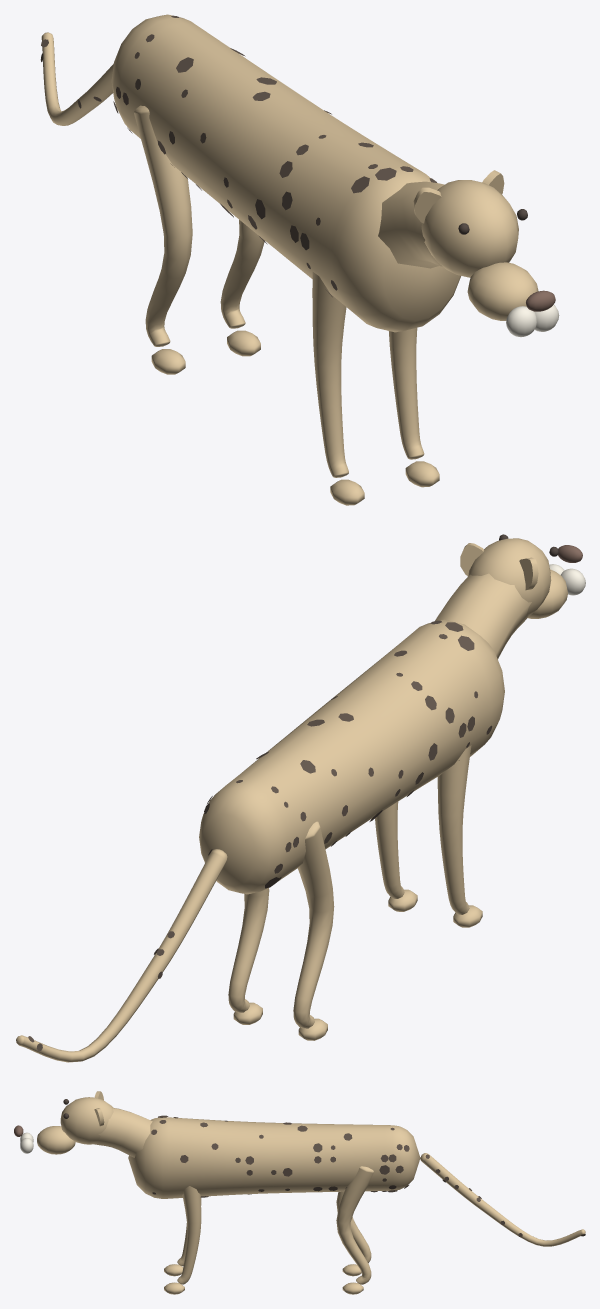
The model's file is savanna-wildlife-cheetah-8855b8b6__6543.glb.
3 views of the same model, one above another, from view 1: azimuth 30°, elevation 25°; view 2: azimuth 150°, elevation 25°; view 3: azimuth 270°, elevation 25° (orthographic). The views are drawn at different scales.
Visible parts, largest first — view 1: cheetah; view 2: cheetah; view 3: cheetah.
Boxes of the visible parts, x1,y1,x2,y2 form: cheetah: (40, 14, 559, 505); cheetah: (16, 534, 585, 1062); cheetah: (14, 1091, 585, 1294).
Bounding box in the file's own units: 0.49 × 1.25 × 3.49.
